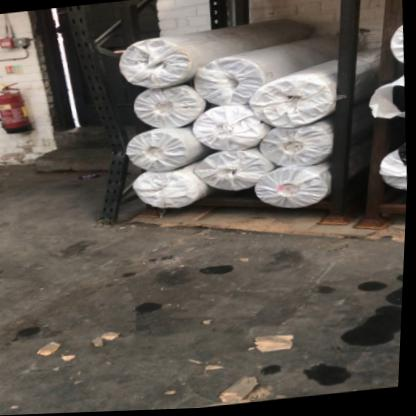vertical_damage: (82, 104, 142, 181)
